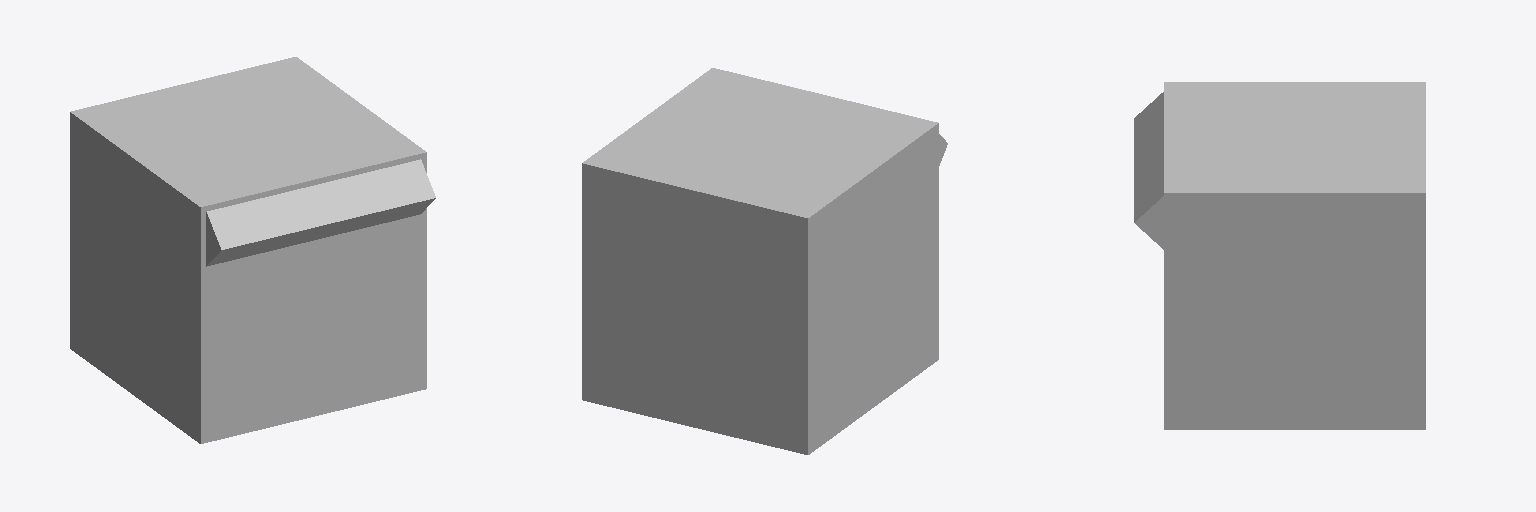
File: stoveBase.obj
The picture shows the model from 3 angles: view 1: azimuth 30°, elevation 25°; view 2: azimuth 150°, elevation 25°; view 3: azimuth 270°, elevation 25°; orthographic projection.
Parts seen in each view (by area): view 1: Stove_Base_geo Stove_grp, Stove_grp Dials_Base_geo; view 2: Stove_Base_geo Stove_grp; view 3: Stove_Base_geo Stove_grp, Stove_grp Dials_Base_geo.
Part boxes in pixels (x1,y1,x2,y2): Stove_Base_geo Stove_grp: (70,57,426,443); Stove_grp Dials_Base_geo: (206,159,435,266); Stove_Base_geo Stove_grp: (582,68,938,454); Stove_Base_geo Stove_grp: (1164,82,1425,429); Stove_grp Dials_Base_geo: (1134,92,1163,249).
Size of the model in its own units: 110 by 110 by 123.